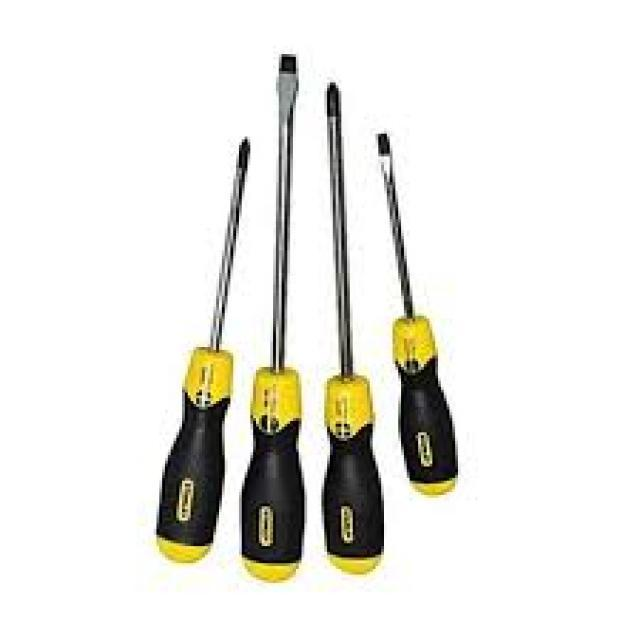screwdriver: (150, 131, 254, 566), (236, 51, 307, 592), (372, 123, 470, 500), (321, 75, 387, 582)
